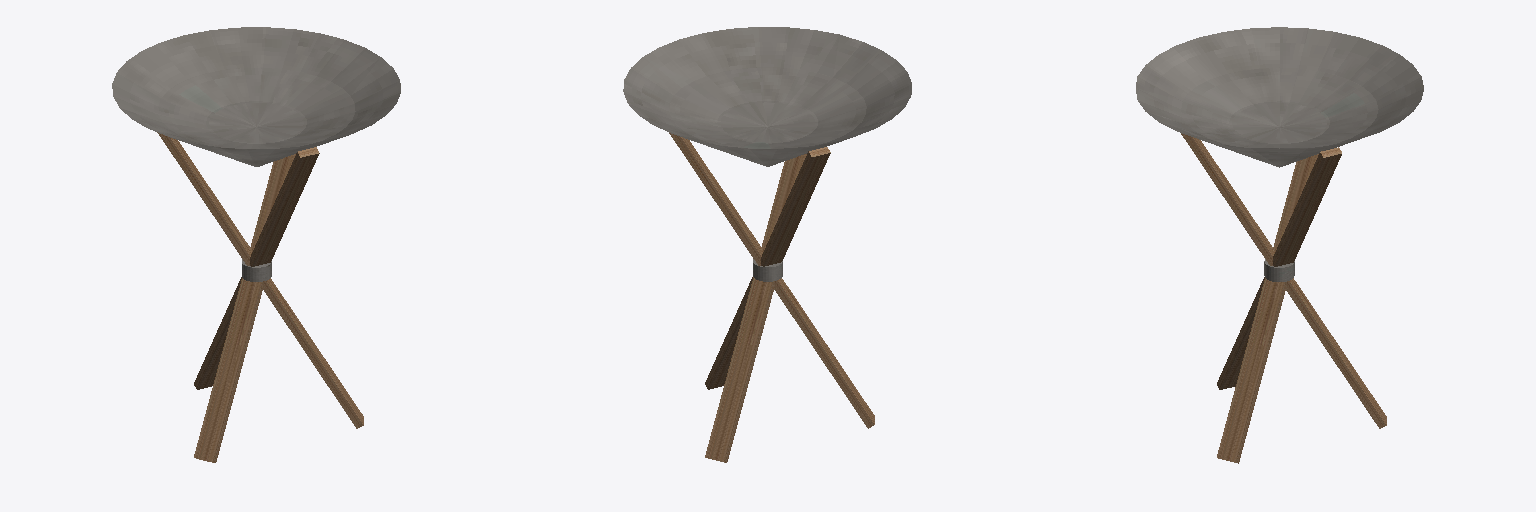
The picture shows the model from 3 angles: view 1: azimuth 30°, elevation 25°; view 2: azimuth 150°, elevation 25°; view 3: azimuth 270°, elevation 25°; orthographic projection.
Parts seen in each view (by area): view 1: Cone; view 2: Cone; view 3: Cone.
Boxes of the visible parts, box(x1,y1,x2,y2) form: Cone: box(112, 27, 400, 462); Cone: box(623, 27, 911, 462); Cone: box(1136, 27, 1423, 463).
Bounding box in the file's own units: 1.99 × 2.57 × 1.99.
2 materials, 2 textured.